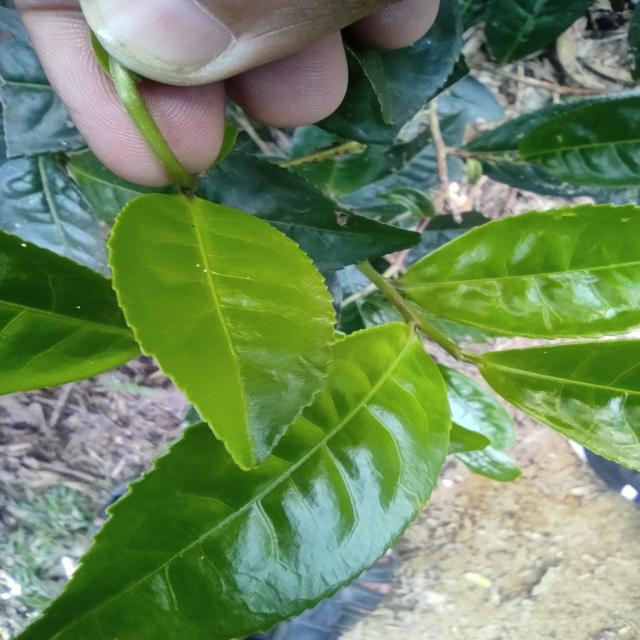Category C(4-7 days): (74, 115, 359, 499)
